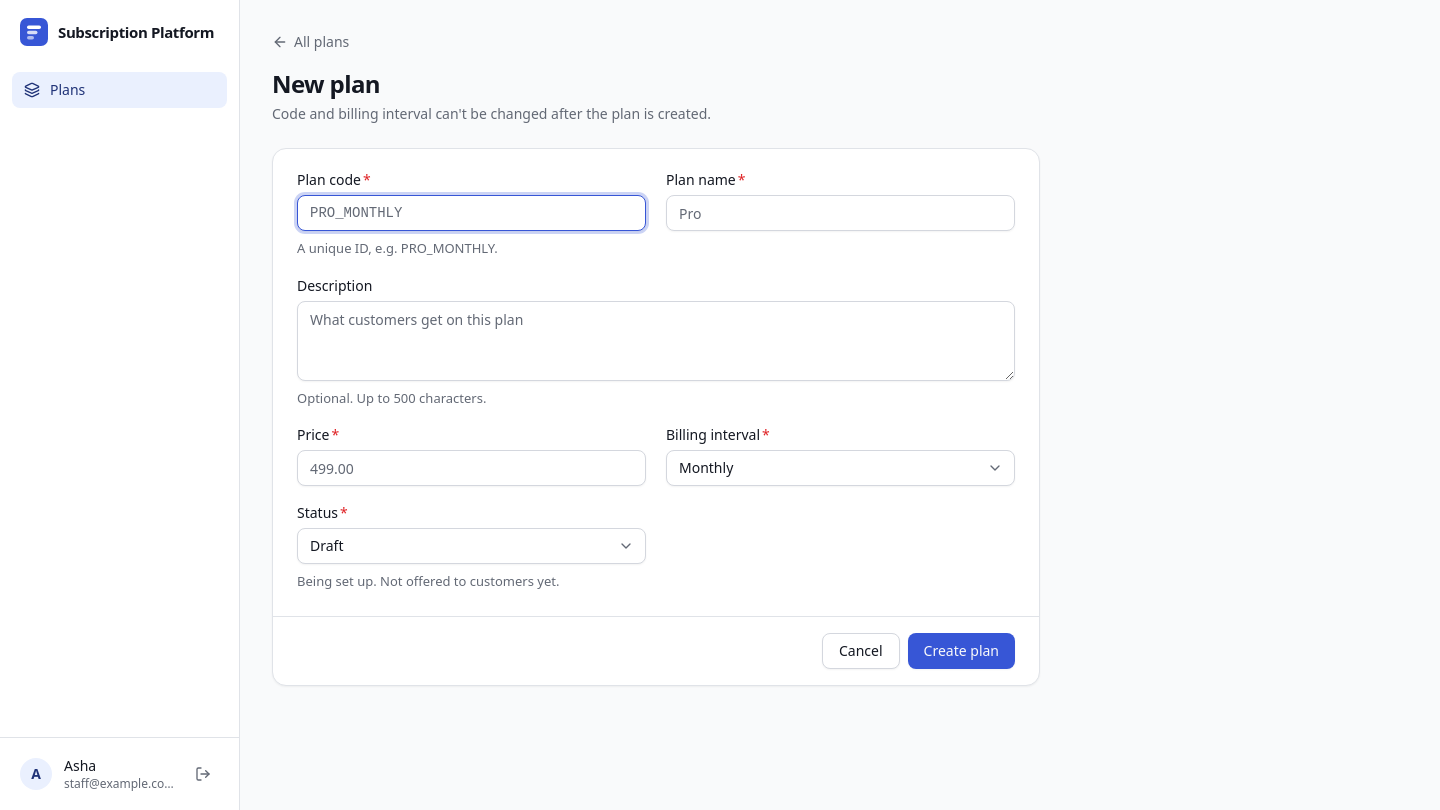
Scenario: plans › validates the new plan form before sending anything
The image size is (1440, 810).
Click the button "Create plan". click: {"x": 961, "y": 650}
box: [908,632,1015,668]
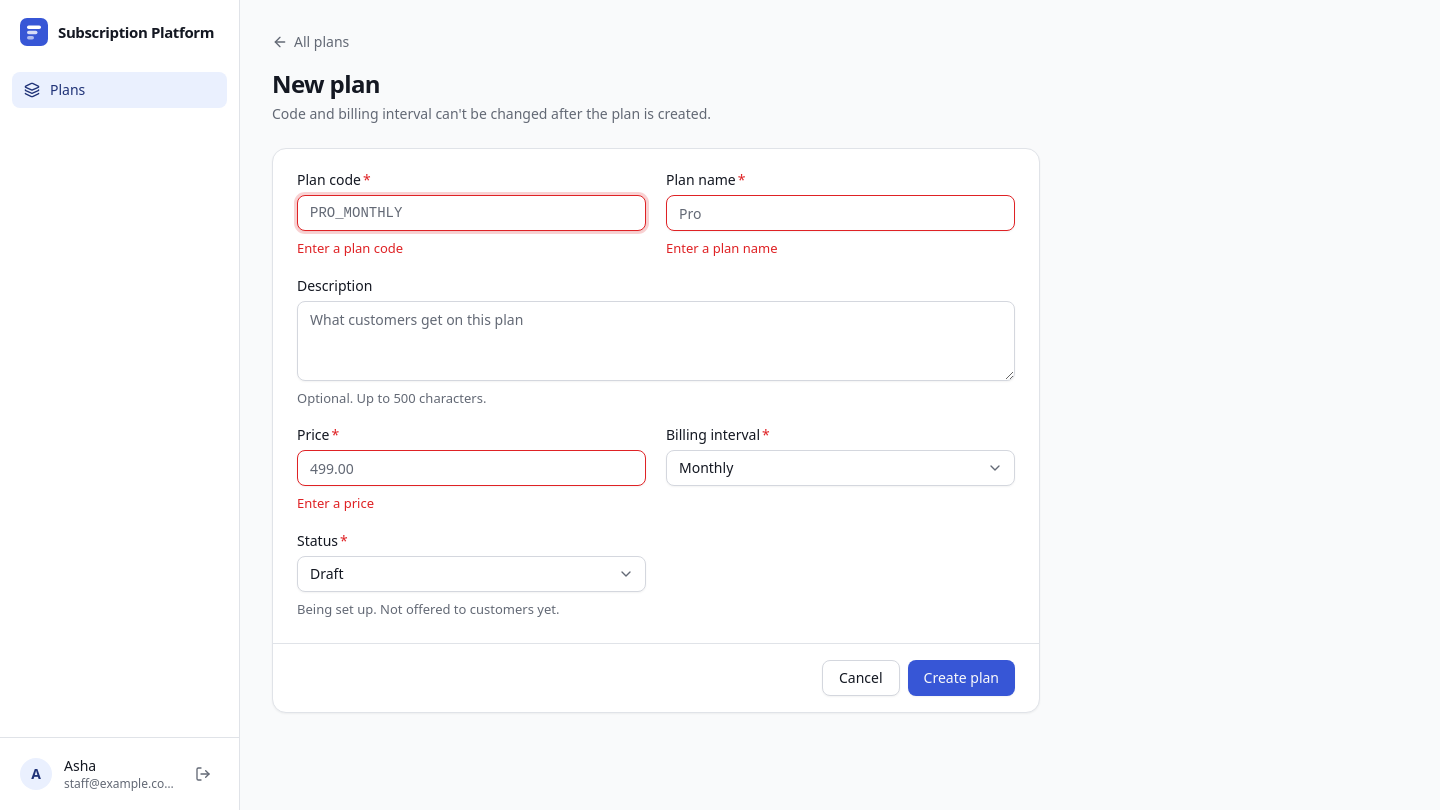
Expected: the text "Enter a plan code" is shown, [297,239,403,257]
Expected: the text "Enter a plan name" is shown, [666,239,778,257]
Expected: the text "Enter a price" is shown, [297,494,374,512]
// plan_code is unique regardless of case in MySQL.
Type "pro_monthly" into the field labelled "Plan code*". click: {"x": 472, "y": 213}
box: [297,195,646,231]
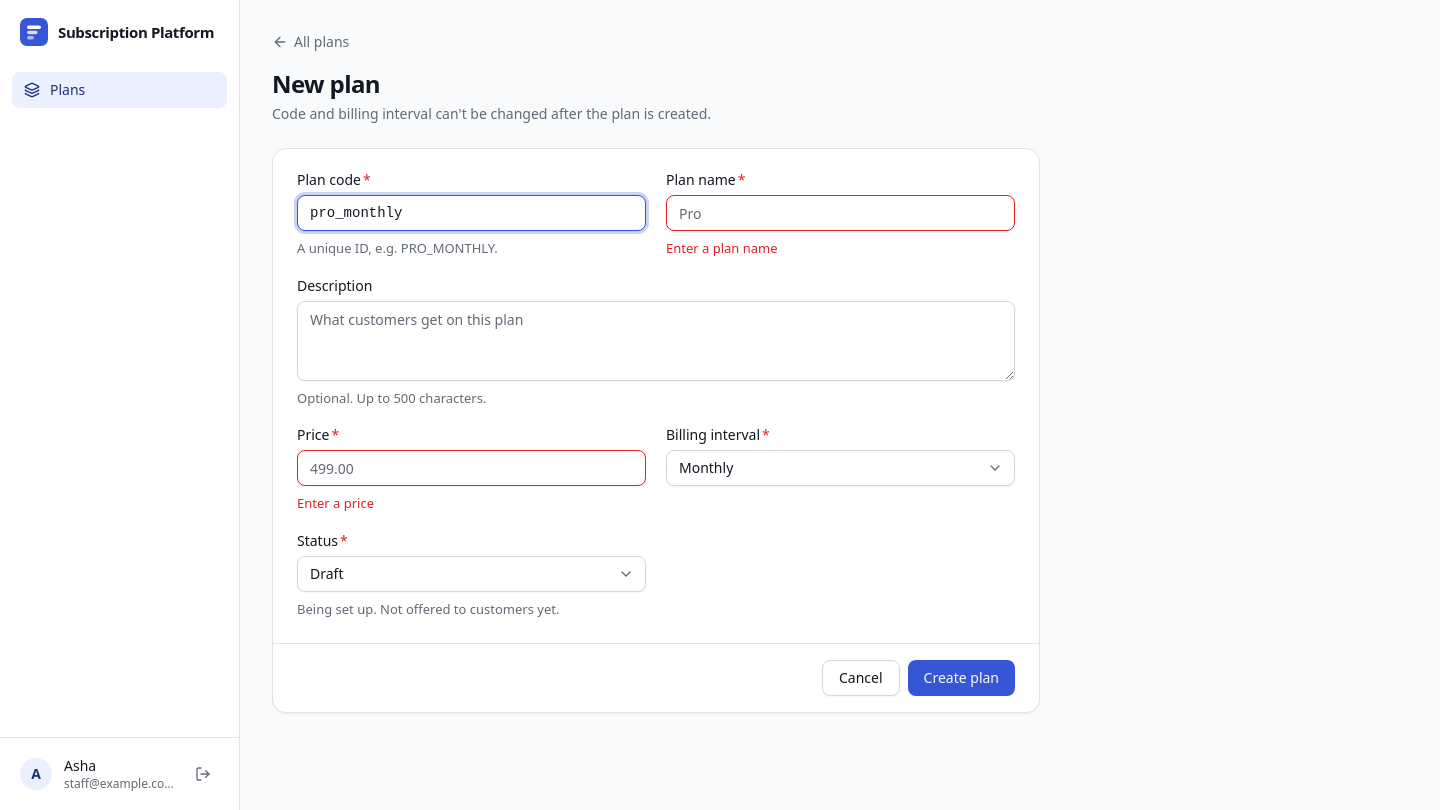
Type "Another Pro" into the field labelled "Plan name*". click: {"x": 840, "y": 213}
box: [666,195,1015,231]
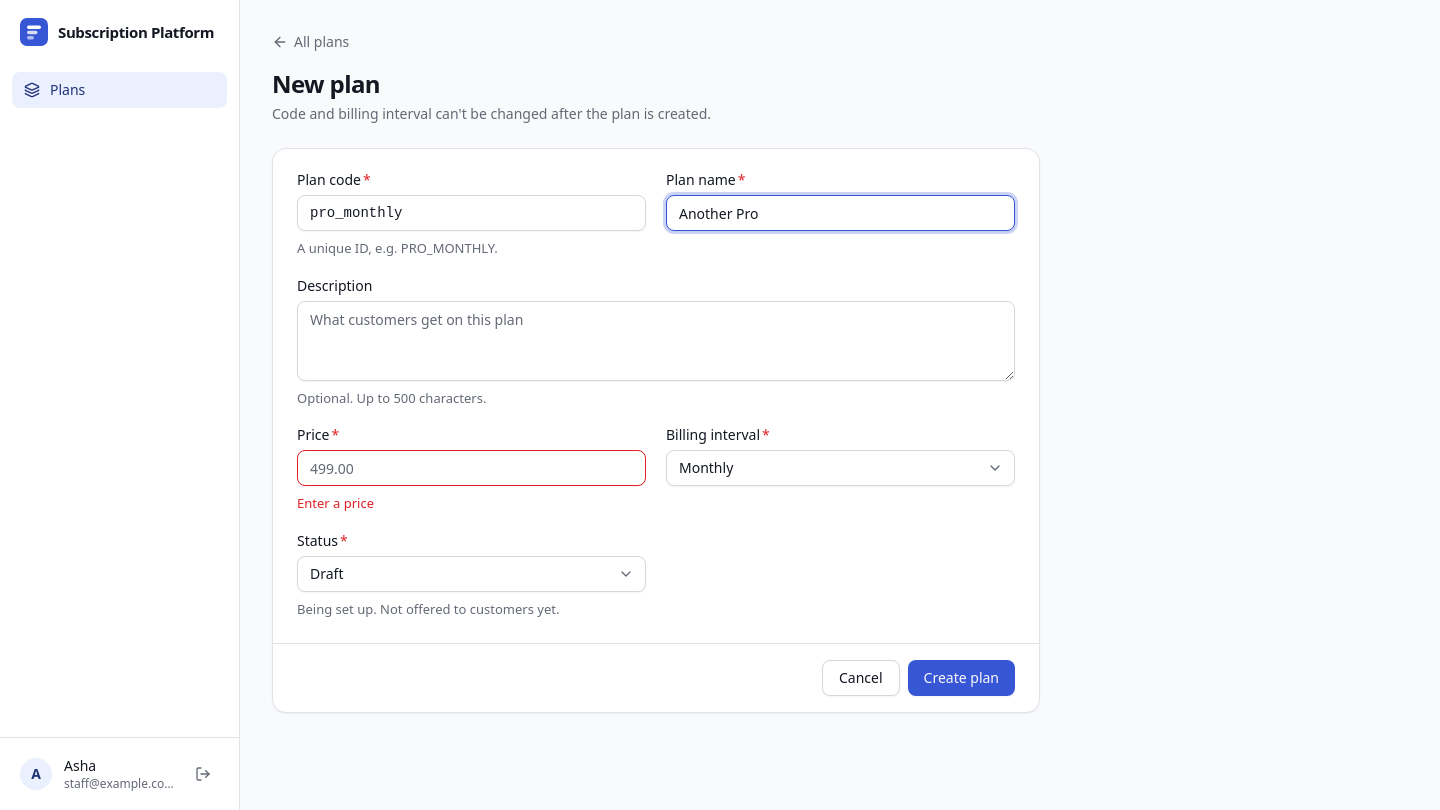
Type "12.5" into the field labelled "Price*". click: {"x": 472, "y": 468}
box: [297,450,646,486]
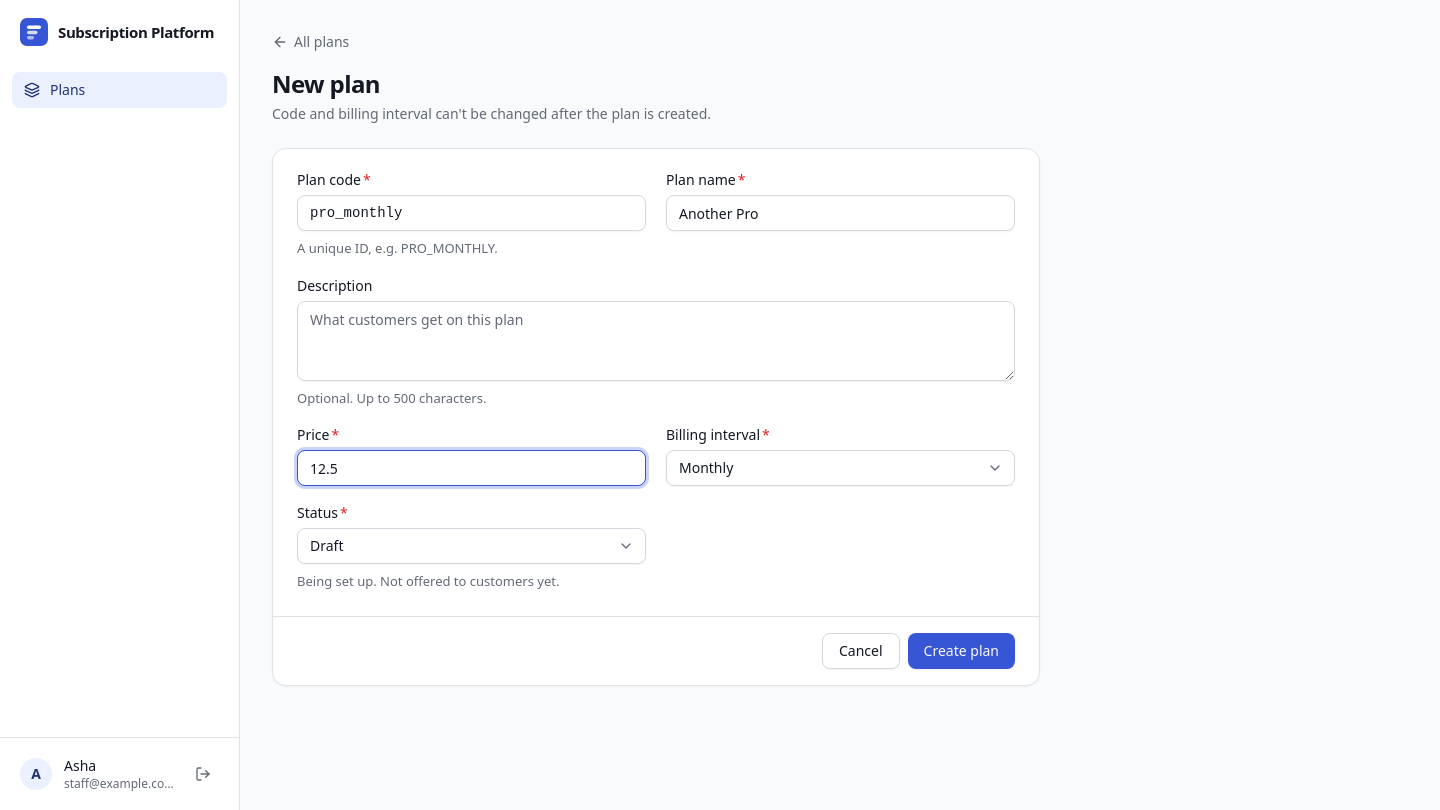
Click the button "Create plan". click: {"x": 961, "y": 650}
box: [908,632,1015,668]
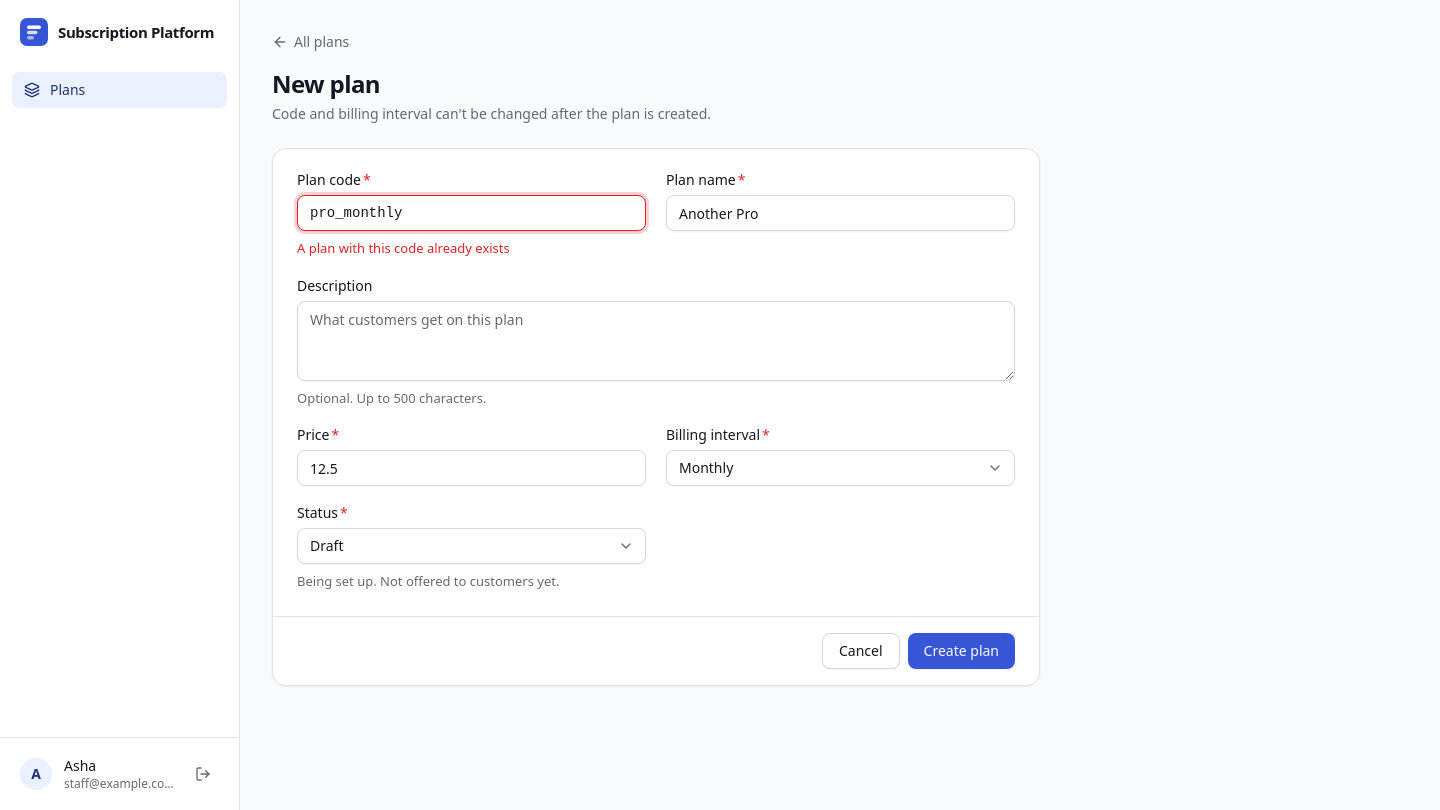
Expected: the text "A plan with this code already exists" is shown, [297,239,510,257]
